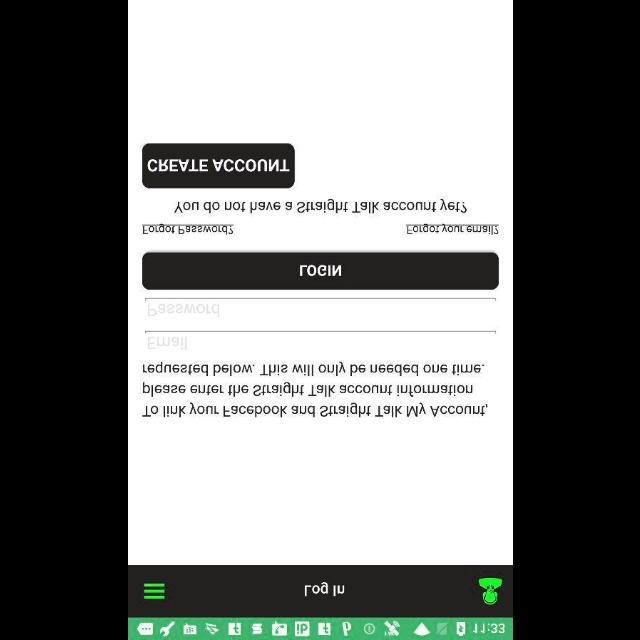icon: (478, 576, 502, 604), (143, 582, 165, 598)
input: (144, 330, 496, 350), (144, 298, 496, 316)
text: (141, 361, 487, 417), (174, 199, 466, 213), (141, 222, 233, 235), (406, 223, 498, 234), (148, 304, 220, 316), (304, 581, 344, 595), (148, 336, 186, 350)
textbutton: (142, 252, 498, 290), (142, 144, 294, 188)
uppertaskbar: (128, 617, 512, 639)
